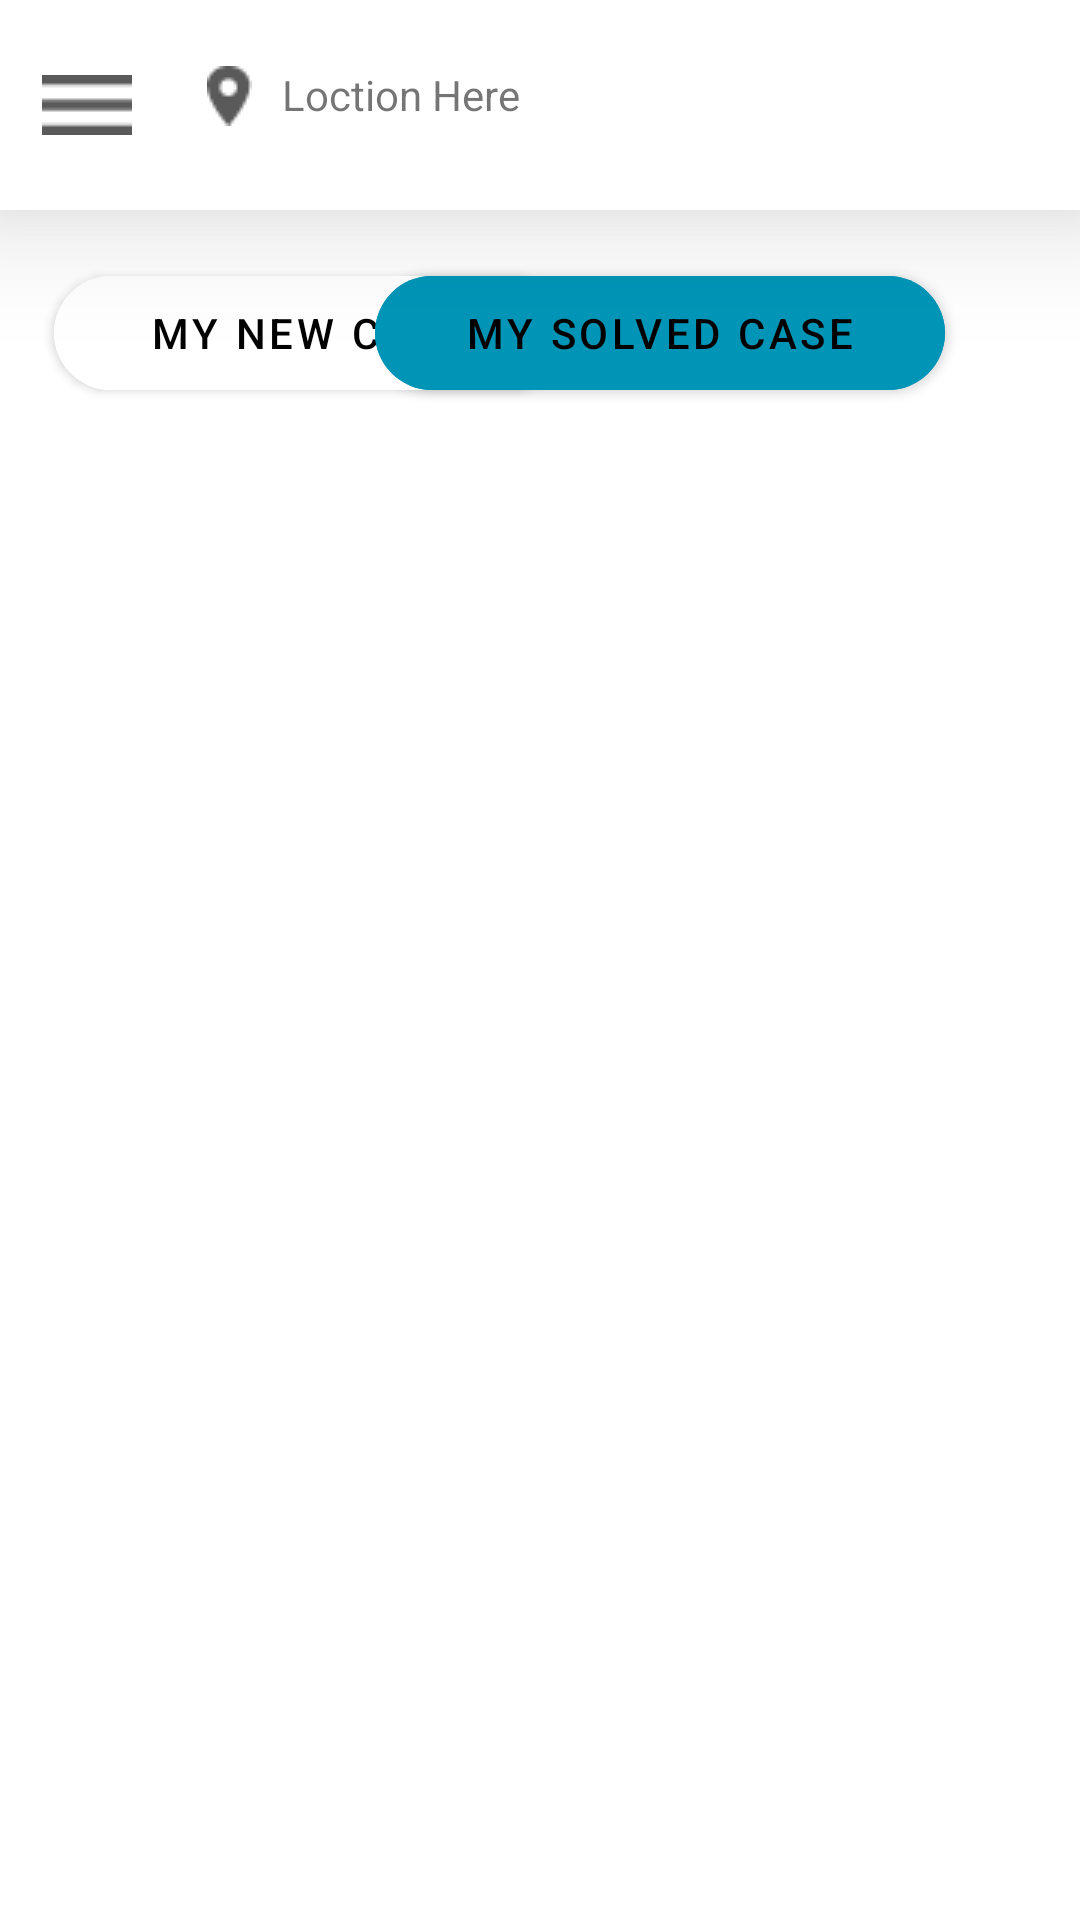

Locate icon controls on the screen. Image size 1080w x 1920h, boxes as detection(x1, y1, x2, y2).
menu: detection(42, 75, 132, 135)
